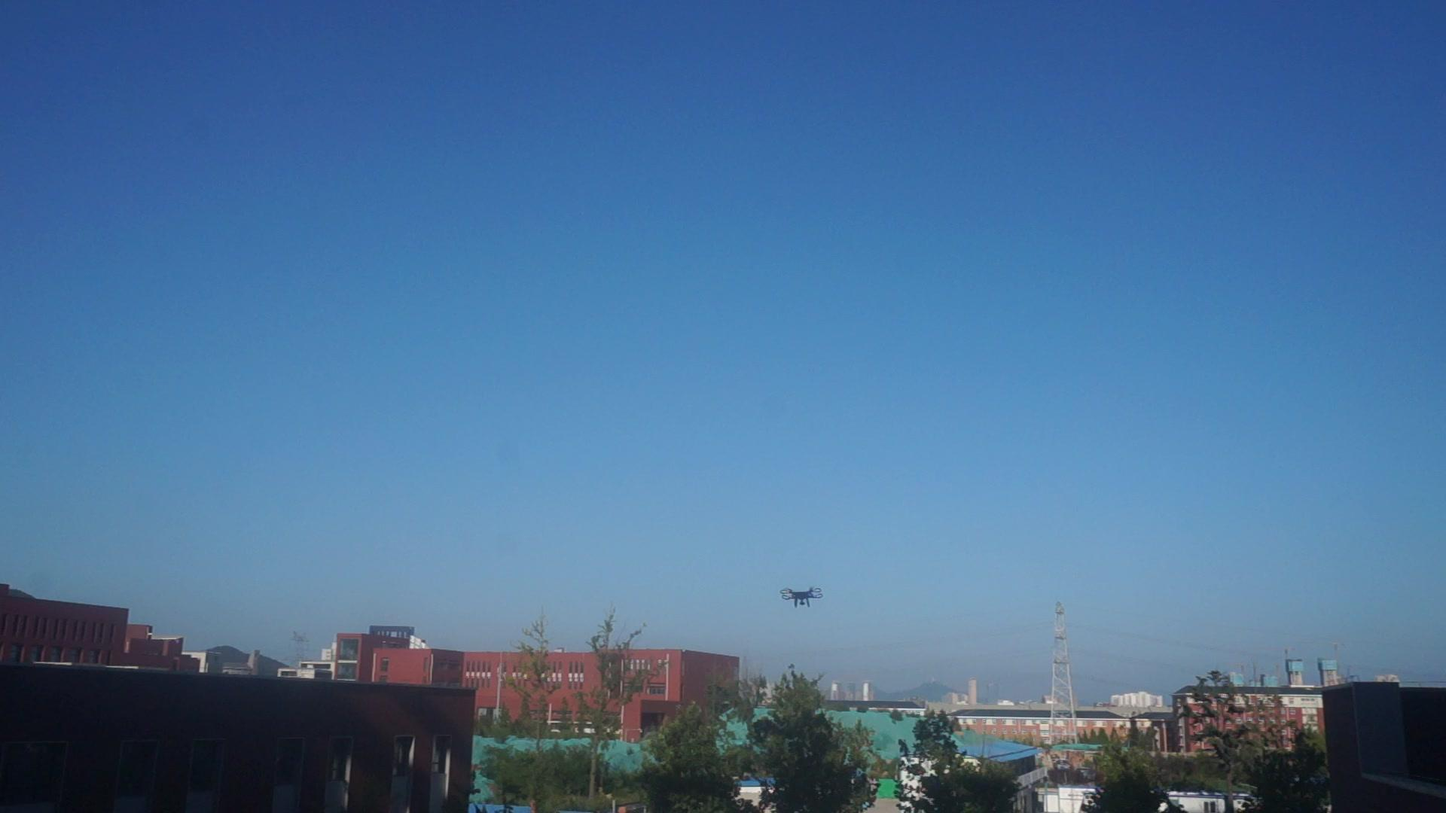UAV: (779, 589, 823, 609)
